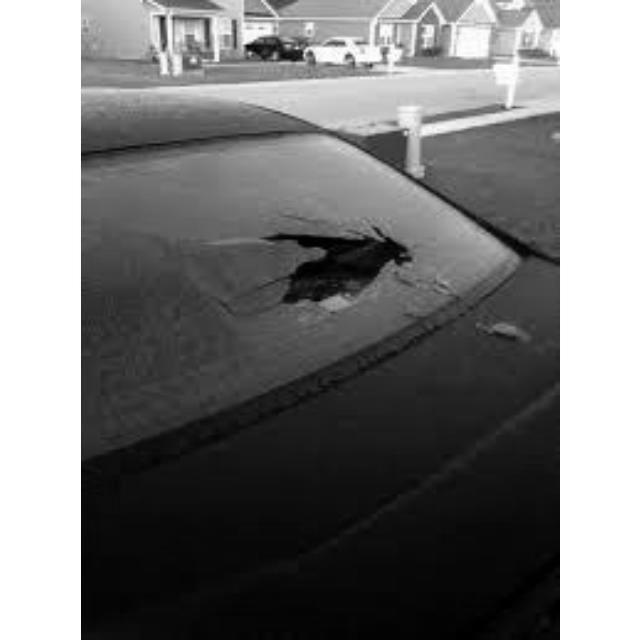Rear-windscreen-Damage: (80, 97, 514, 420)
